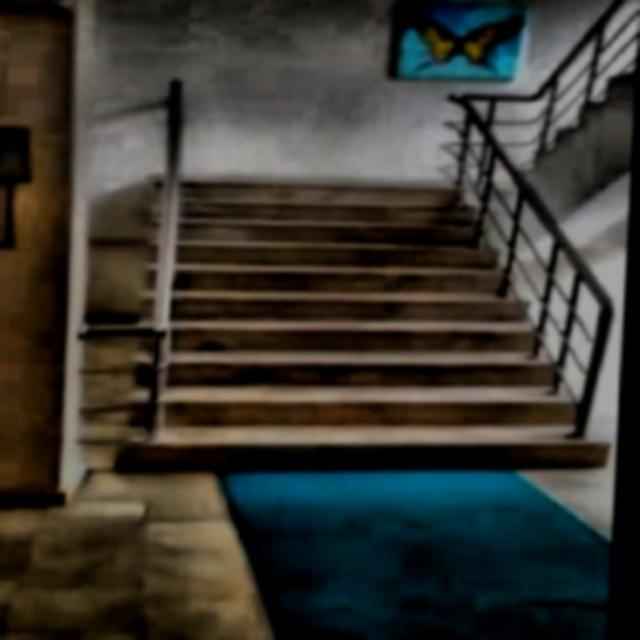stair: (101, 166, 634, 474)
